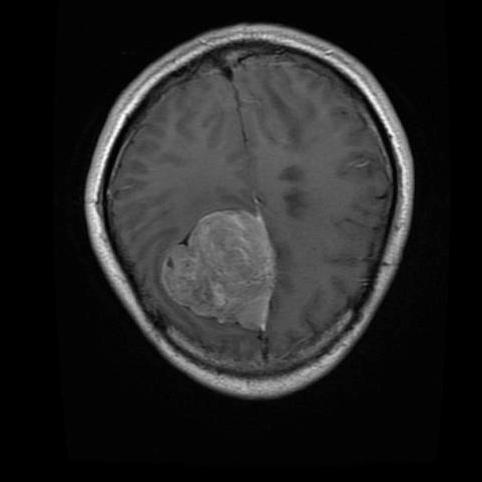Tumour-Meningioma: (164, 182, 287, 343)
